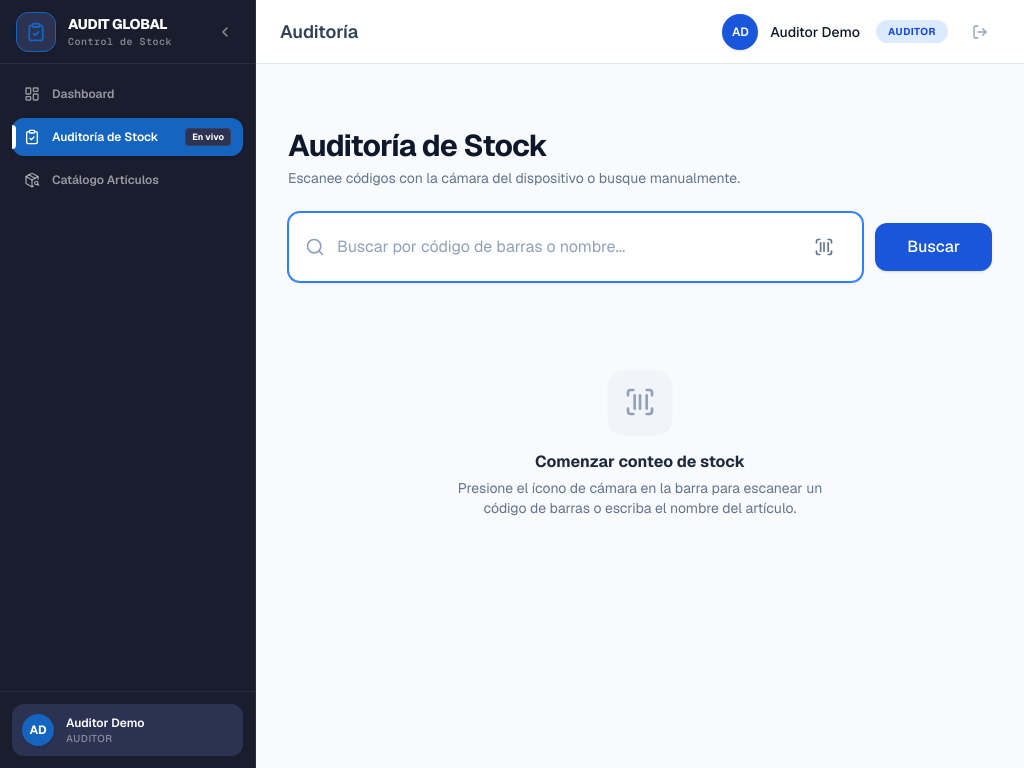
AuditPage › opens scanner modal when camera button is clicked
Click the button named "Escanear con cámara": {"x": 824, "y": 247} top-left (802, 225), bottom-right (846, 269)
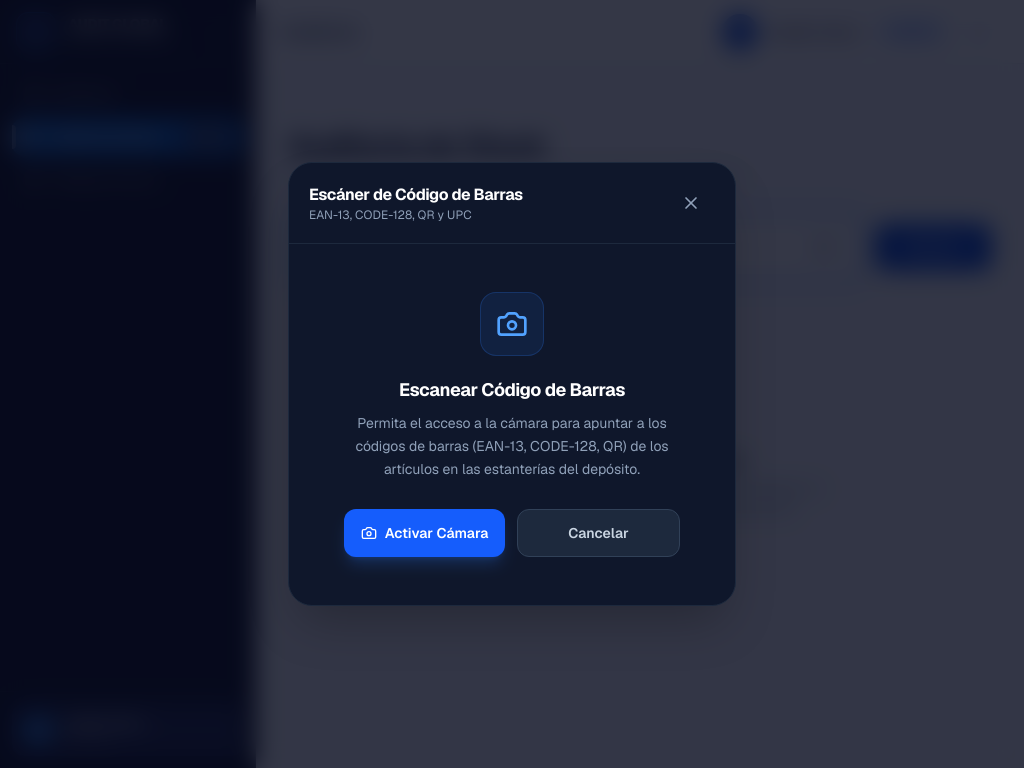
Check: the dialog is shown
Check: the heading "Escáner de Código de Barras" is shown, box top-left (309, 183), bottom-right (523, 207)
